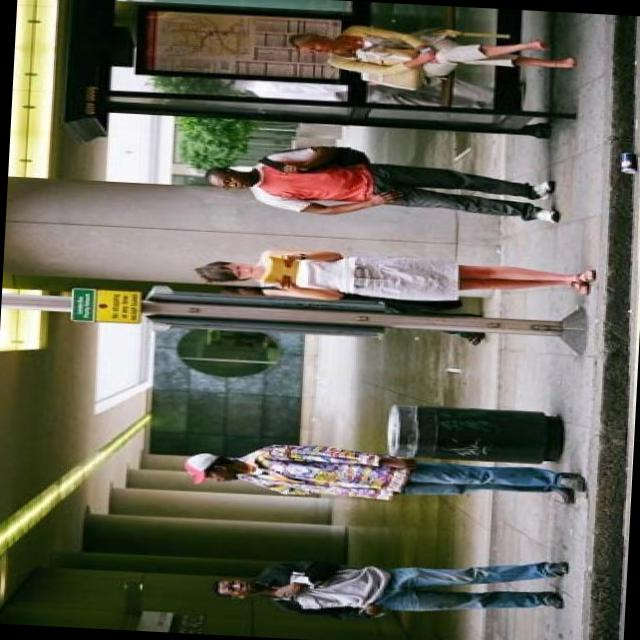bareface: (208, 172, 259, 192), (216, 576, 262, 596), (199, 465, 244, 484), (220, 262, 260, 282), (298, 40, 338, 56)
